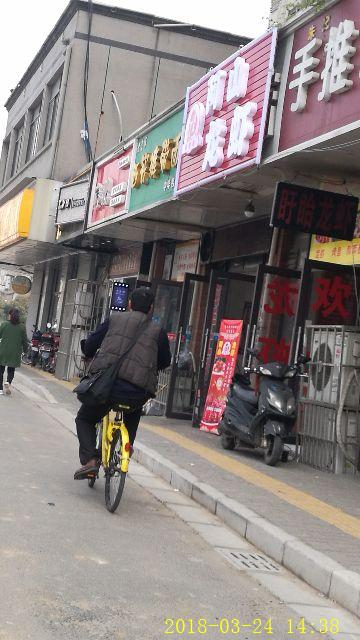multi_signs: (181, 26, 278, 185), (272, 180, 354, 242)
